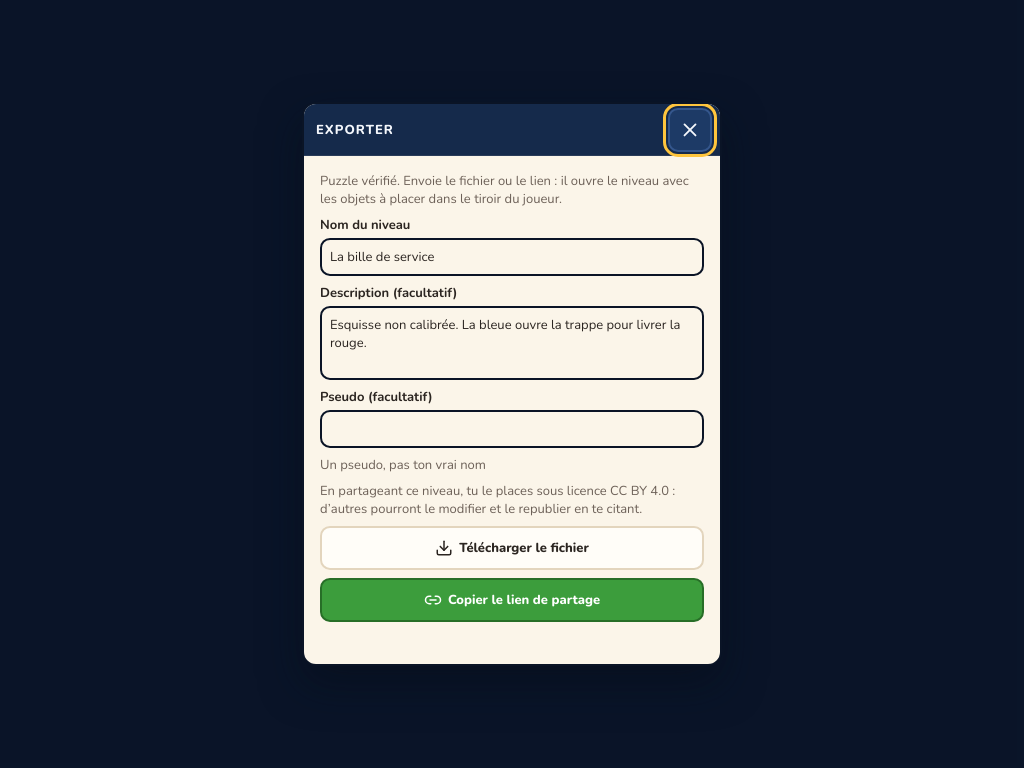
boîte « Exporter » de l’atelier (U16, U22) › télécharge le fichier du codec L22 et le confirme
Click the button "Télécharger le fichier". click: click(512, 548)
box: [320, 526, 704, 570]
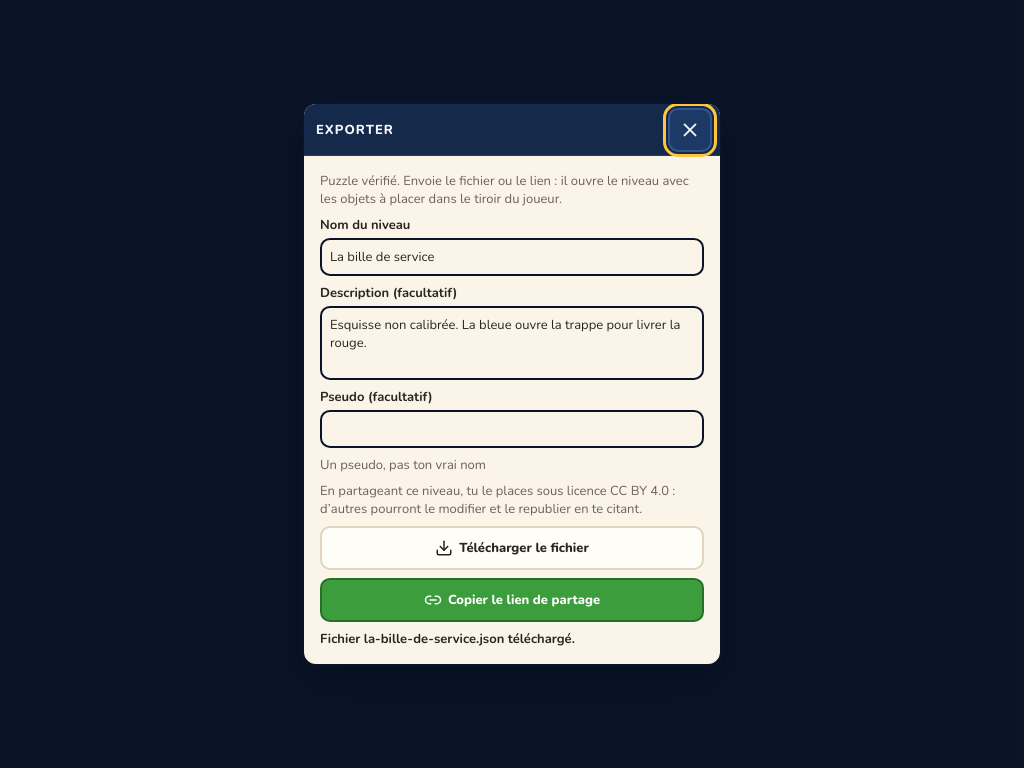
Result: the message reads "Fichier la-bille-de-service.json téléchargé." at [320, 630, 575, 648]
